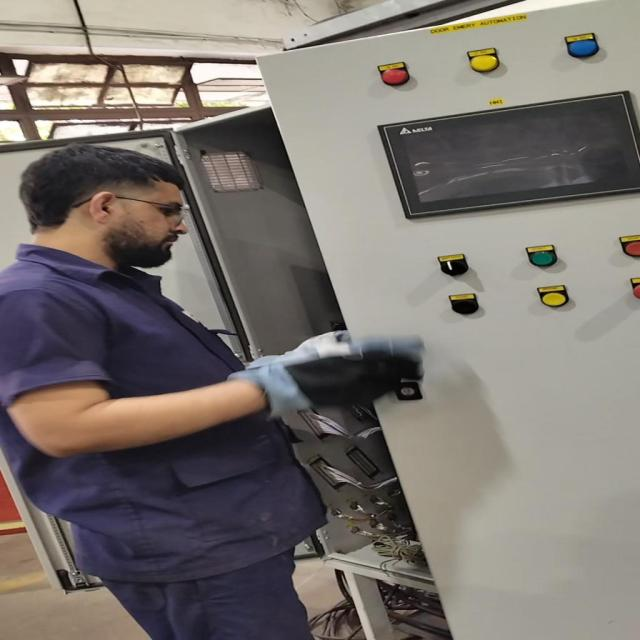Gloves-Detection: (237, 336, 432, 416)
